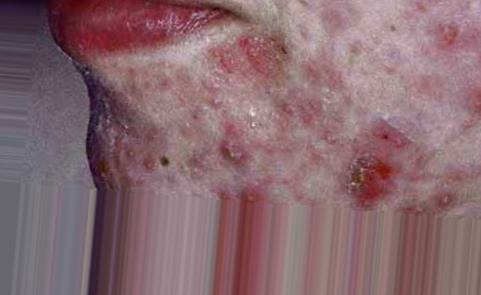Acne: (67, 31, 444, 224)
